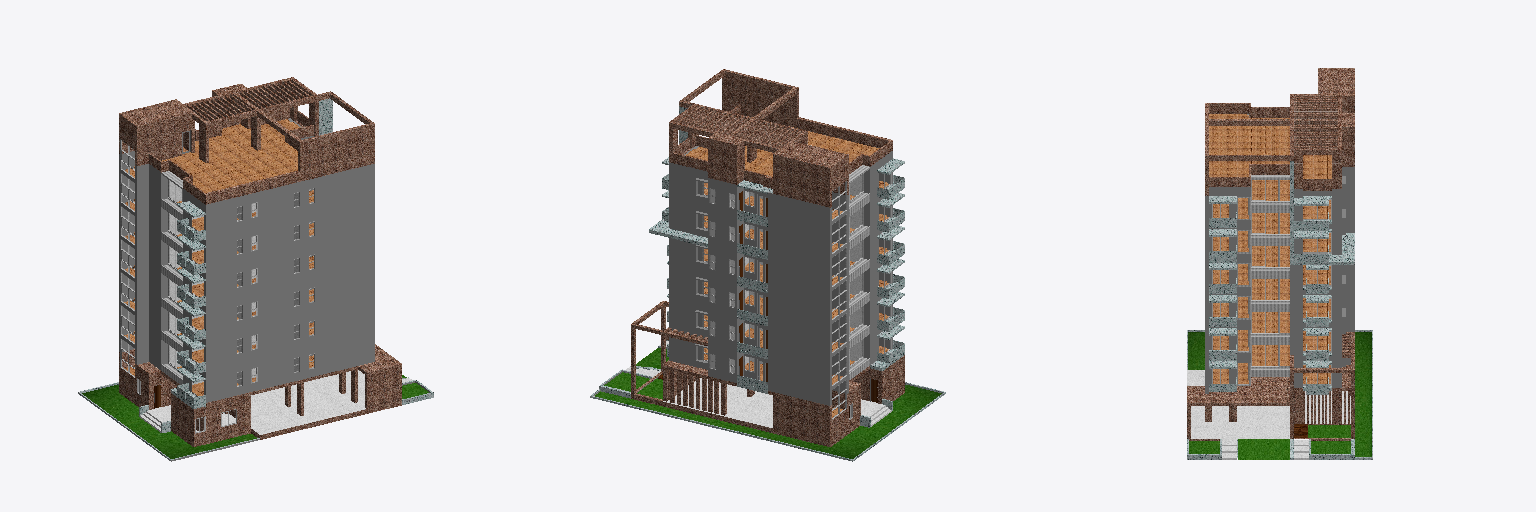
The picture shows the model from 3 angles: view 1: azimuth 30°, elevation 25°; view 2: azimuth 150°, elevation 25°; view 3: azimuth 270°, elevation 25°; orthographic projection.
Visible parts, largest first — view 1: EdificioPrincipal; view 2: EdificioPrincipal; view 3: EdificioPrincipal.
Boxes of the visible parts, x1=… form: EdificioPrincipal: x1=78, y1=77, x2=433, y2=461; EdificioPrincipal: x1=590, y1=69, x2=945, y2=461; EdificioPrincipal: x1=1187, y1=68, x2=1372, y2=459.
Bounding box in the file's own units: 14.23 × 14.44 × 8.73.
Materials: 10 (7 with a texture image).